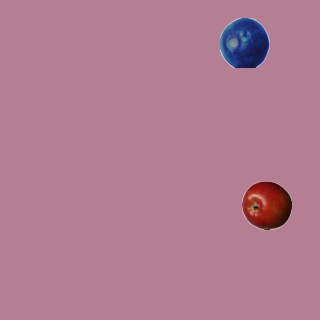Apple Braeburn: (241, 180, 291, 230)
Huckleberry: (219, 17, 269, 67)
